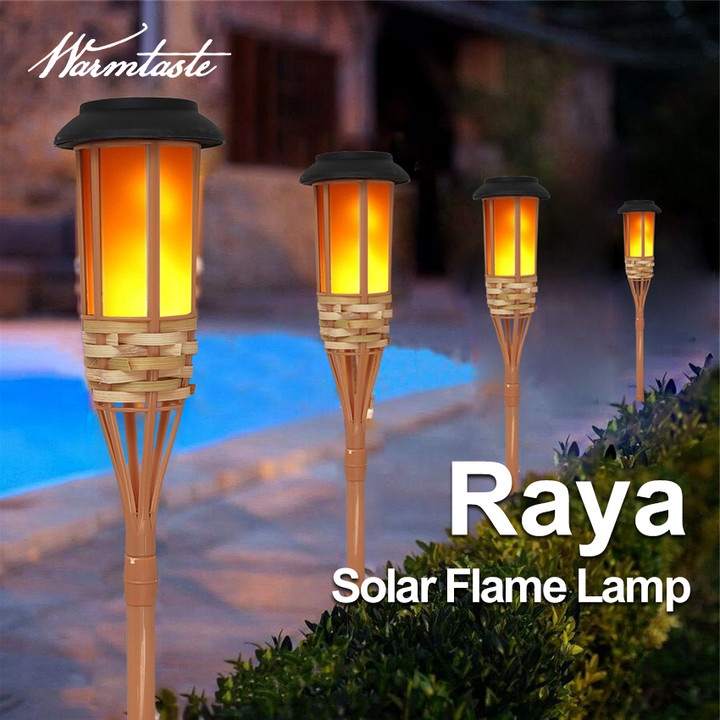Open-Flame-Hazard: (48, 87, 234, 419), (280, 129, 411, 363), (460, 152, 552, 310), (609, 177, 652, 274)
